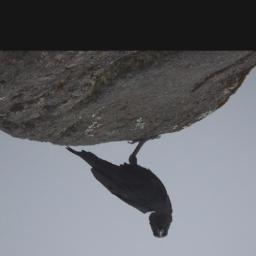Crow: (65, 136, 175, 239)
